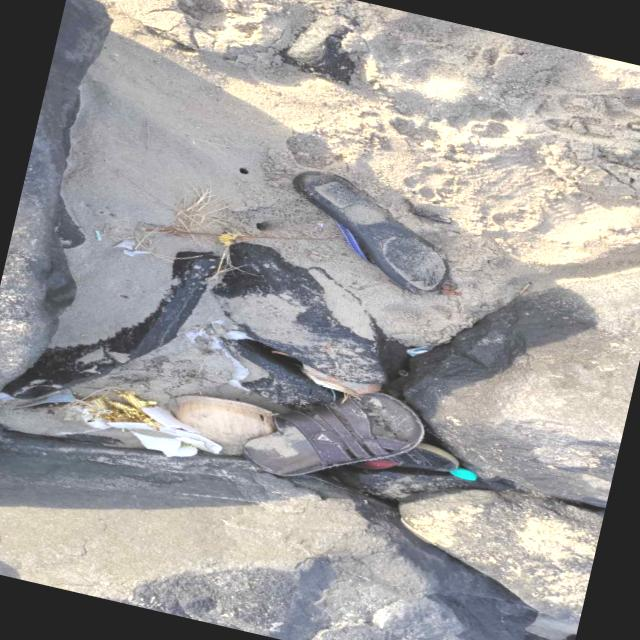dep: (292, 171, 446, 293), (240, 393, 423, 476), (352, 443, 458, 471)
giay: (104, 407, 221, 456)
rac_huu_co: (171, 395, 274, 446)
